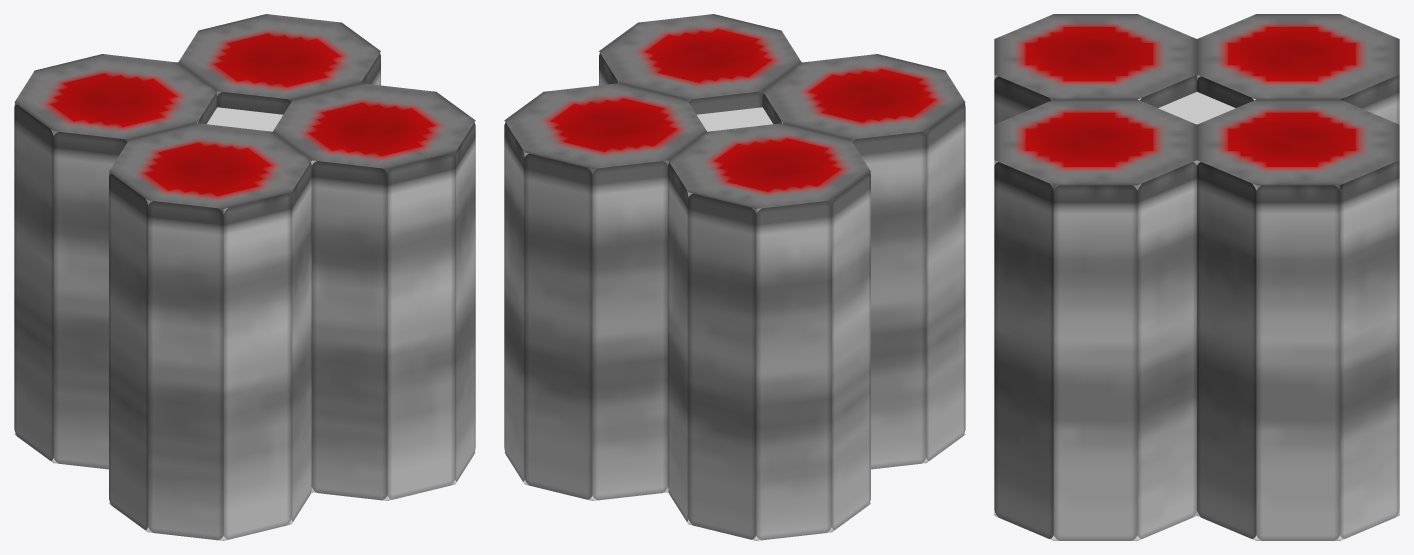
The model's file is redstone_battery.obj.
3 views of the same model, side by side, from view 1: azimuth 30°, elevation 25°; view 2: azimuth 150°, elevation 25°; view 3: azimuth 270°, elevation 25° (orthographic). The views are drawn at different scales.
Visible parts, largest first — view 1: cube; view 2: cube; view 3: cube.
Part boxes in pixels (<box>): cube: <box>14,14,475,540</box>; cube: <box>504,14,965,540</box>; cube: <box>994,14,1399,540</box>.
Bounding box in the file's own units: 2 × 1.94 × 2.
